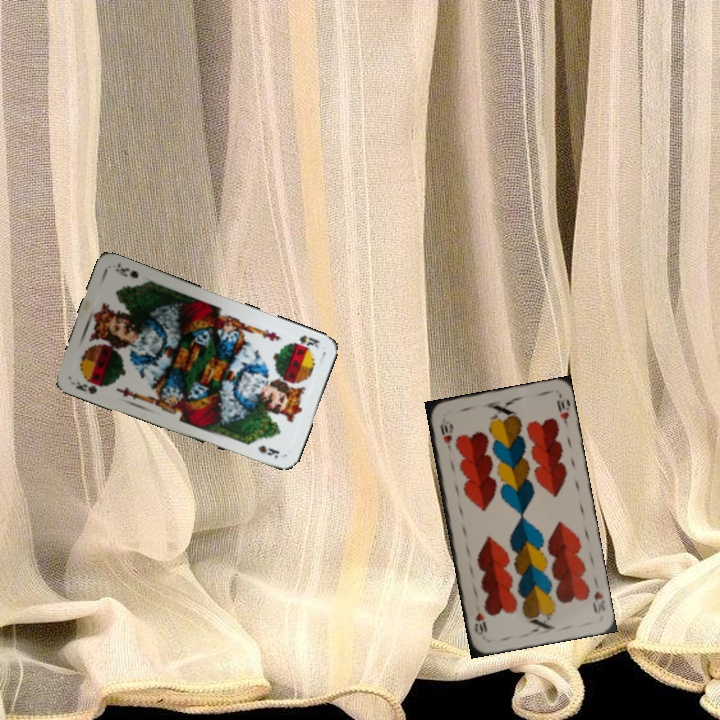H10: (436, 421, 454, 454), (589, 587, 608, 617)
SK: (66, 377, 100, 397), (295, 331, 322, 352)
